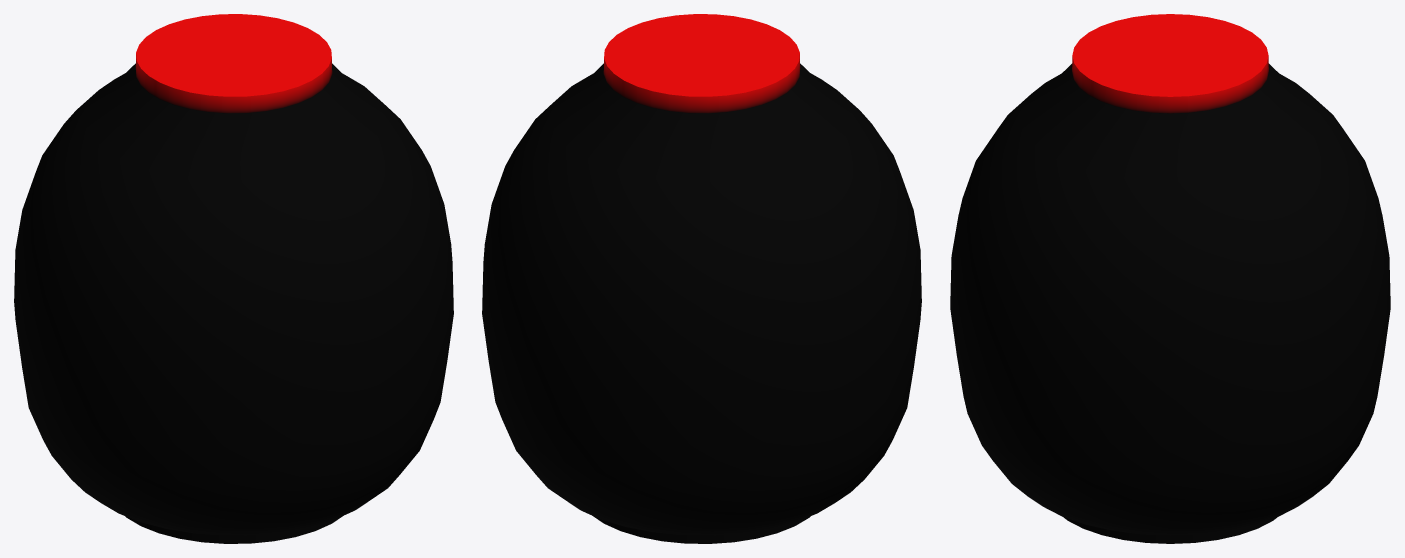
The model's file is Pot04Water.fbx.
3 views of the same model, side by side, from view 1: azimuth 30°, elevation 25°; view 2: azimuth 150°, elevation 25°; view 3: azimuth 270°, elevation 25° (orthographic).
Parts seen in each view (by area): view 1: Plane.037; view 2: Plane.037; view 3: Plane.037.
Part boxes in pixels (x1,y1,x2,y2): Plane.037: [14, 14, 453, 543]; Plane.037: [482, 14, 921, 543]; Plane.037: [950, 14, 1390, 543].
Bounding box in the file's own units: 1.68 × 1.84 × 1.68.
